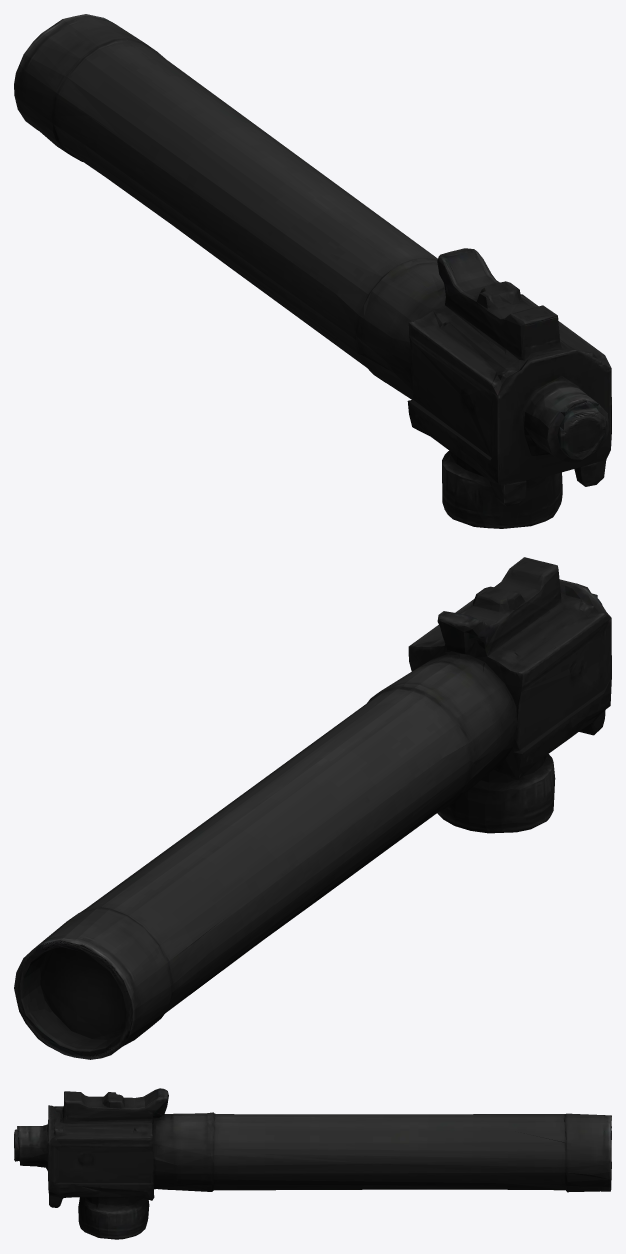
File: suppressor.glb
3 views of the same model, one above another, from view 1: azimuth 30°, elevation 25°; view 2: azimuth 150°, elevation 25°; view 3: azimuth 270°, elevation 25° (orthographic). The views are drawn at different scales.
Visible parts, largest first — view 1: geometry_0; view 2: geometry_0; view 3: geometry_0.
Boxes of the visible parts, left/top/right/bottom form: geometry_0: left=14, top=14, right=611, bottom=528; geometry_0: left=14, top=557, right=611, bottom=1059; geometry_0: left=14, top=1088, right=611, bottom=1239.
Bounding box in the file's own units: 0.1349 × 0.2424 × 0.9975.
Materials: 1 (1 with a texture image).
